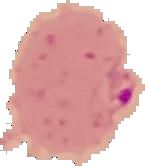parasitized: (20, 13, 136, 159), (96, 65, 134, 112)
